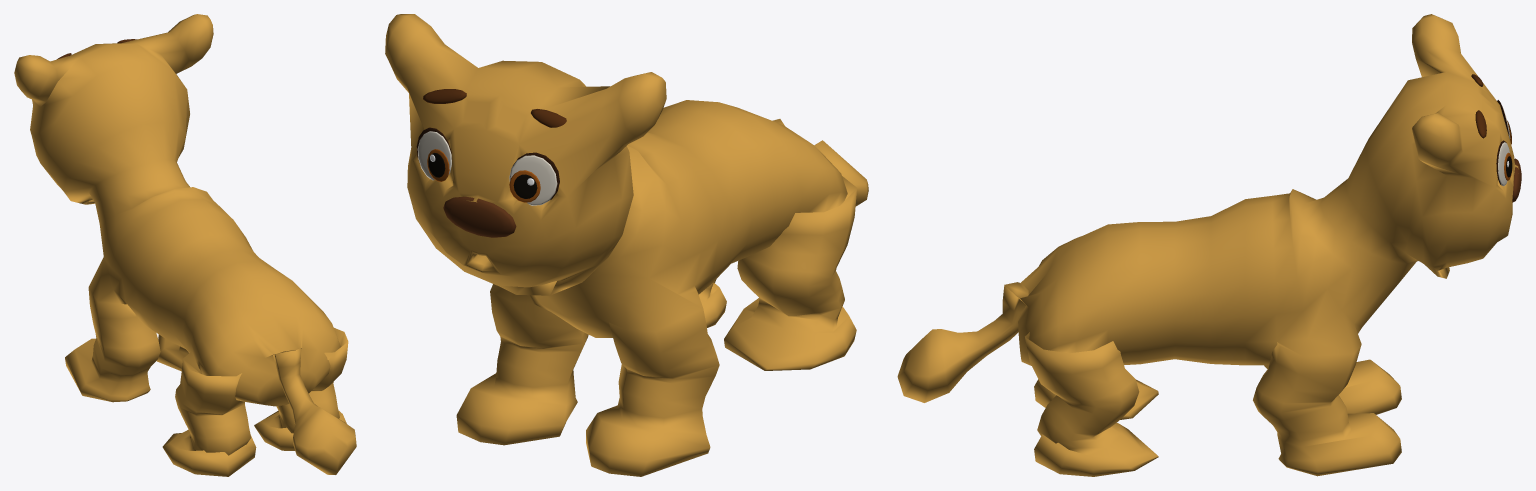
File: lion_face.glb
3 views of the same model, side by side, from view 1: azimuth 30°, elevation 25°; view 2: azimuth 150°, elevation 25°; view 3: azimuth 270°, elevation 25° (orthographic). The views are drawn at different scales.
Visible parts, largest first — view 1: LionCage; view 2: LionCage, NosePad, Sclera_L, Sclera_R, Brow_R; view 3: LionCage.
Boxes of the visible parts, x1,y1,x2,y2 form: LionCage: (14, 14, 356, 476); LionCage: (385, 14, 868, 476); NosePad: (443, 196, 516, 237); Sclera_L: (509, 155, 557, 205); Sclera_R: (417, 131, 451, 180); Brow_R: (423, 89, 466, 103); LionCage: (897, 14, 1518, 476).
Size of the model in its own units: 0.5542 by 0.8469 by 1.31.
